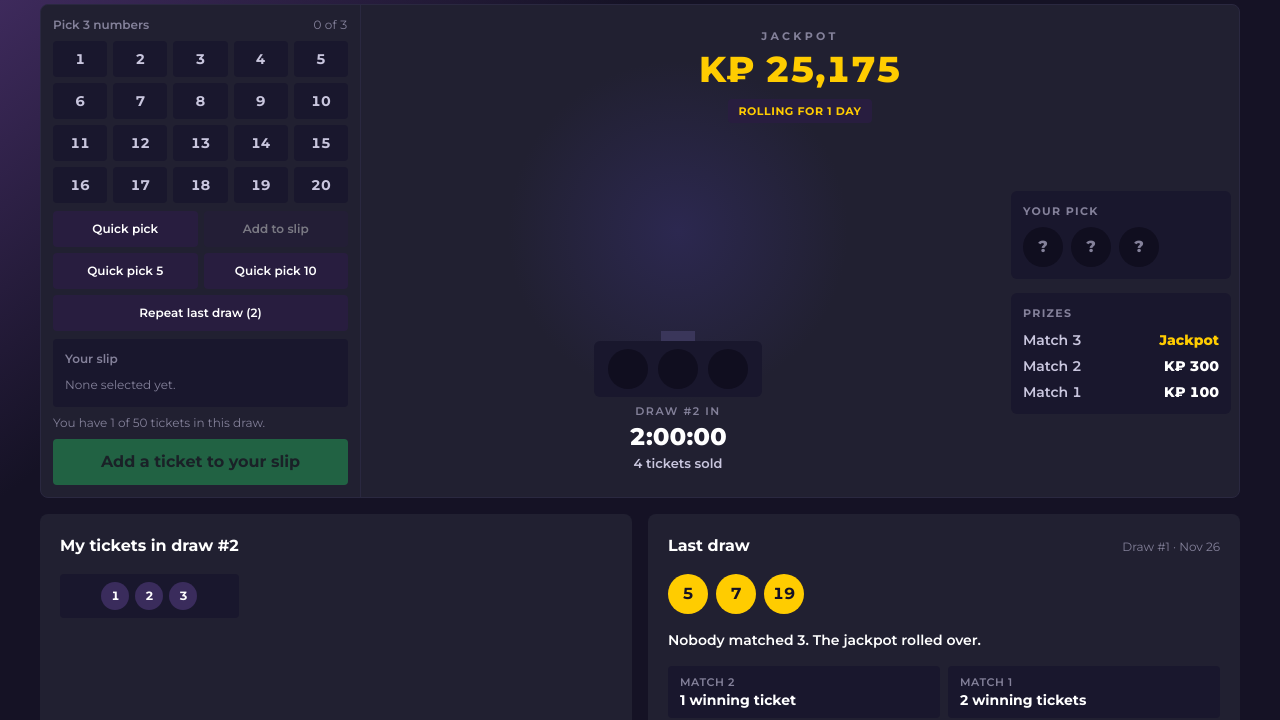
Scenario: the lottery page view › follows the pick in the panel with the balls beside the drum
This screenshot has width=1280, height=720.
Check: the elements with test id "ball" read "?", "?", "?", in this order, box x1=1023 y1=227 x2=1063 y2=267; x1=1071 y1=227 x2=1111 y2=267; x1=1119 y1=227 x2=1159 y2=267
Click the button "19": point(261, 185) x1=234 y1=167 x2=288 y2=203
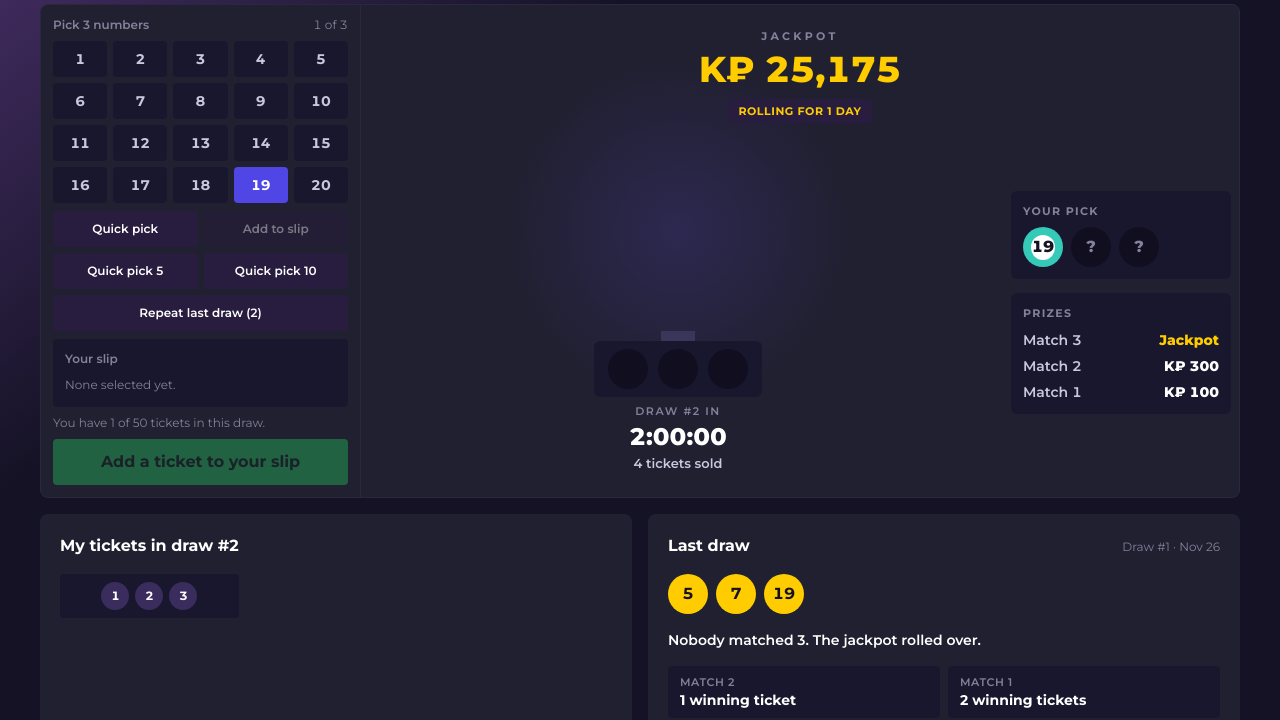
Click the button "3": point(200, 59) x1=173 y1=41 x2=228 y2=77
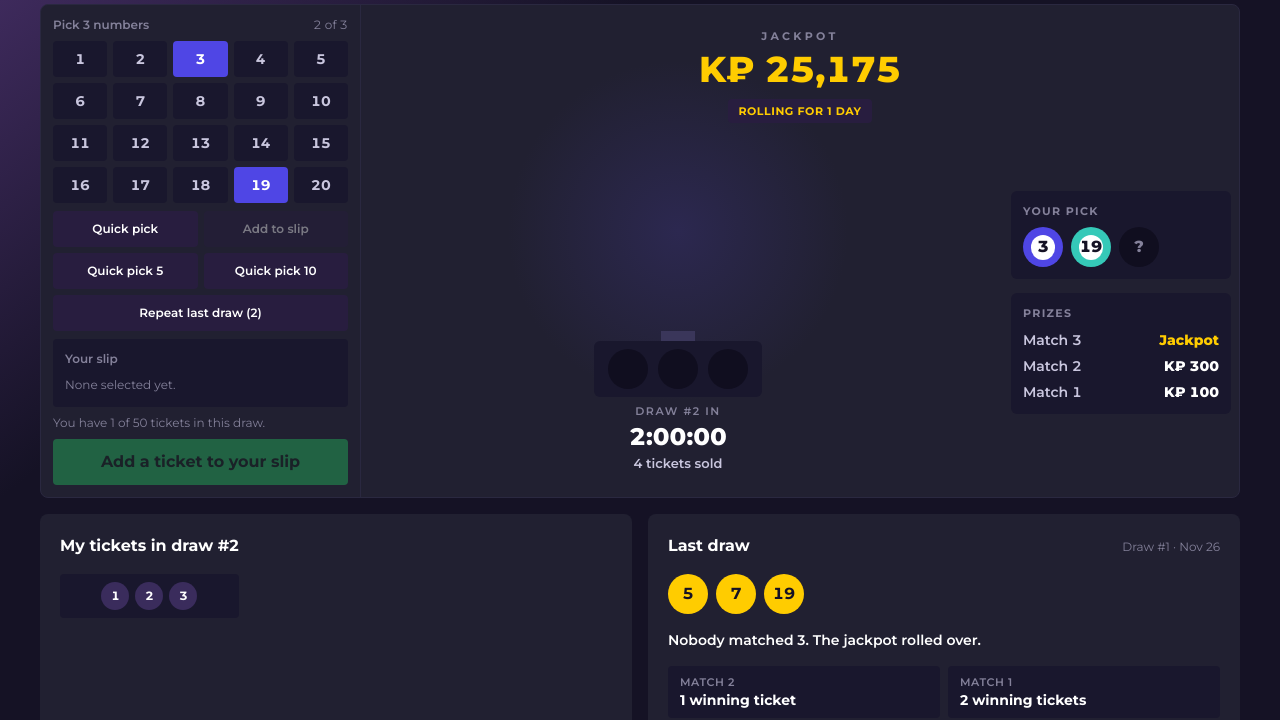
Check: the elements with test id "ball" read "3", "19", "?", in this order, box x1=1023 y1=227 x2=1063 y2=267; x1=1071 y1=227 x2=1111 y2=267; x1=1119 y1=227 x2=1159 y2=267
